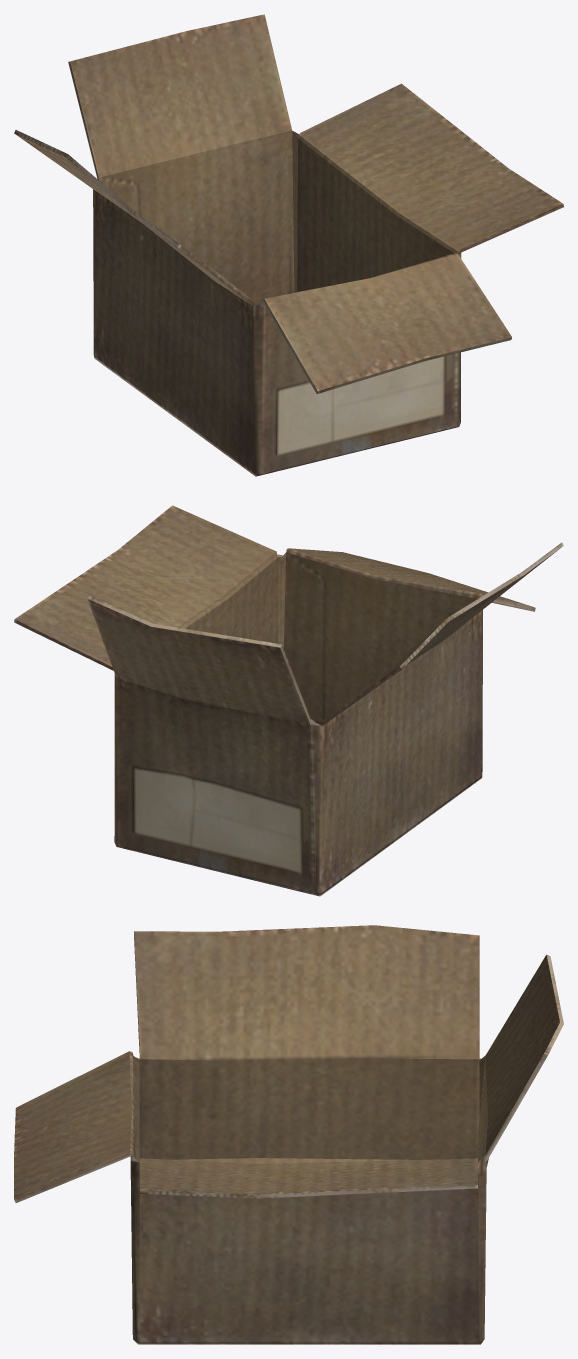
File: sm36_005_cardboard04a.fbx
3 renders of one model, top to bottom at view 1: azimuth 30°, elevation 25°; view 2: azimuth 150°, elevation 25°; view 3: azimuth 270°, elevation 25°, orthographic. The views are drawn at different scales.
Visible parts, largest first — view 1: LOD_1_Group_0_Sub_1__sm36_005_Cardboard04A_A_Mat; view 2: LOD_1_Group_0_Sub_1__sm36_005_Cardboard04A_A_Mat; view 3: LOD_1_Group_0_Sub_1__sm36_005_Cardboard04A_A_Mat.
Part boxes in pixels (x1,y1,x2,y2): LOD_1_Group_0_Sub_1__sm36_005_Cardboard04A_A_Mat: [14, 14, 563, 476]; LOD_1_Group_0_Sub_1__sm36_005_Cardboard04A_A_Mat: [14, 505, 563, 896]; LOD_1_Group_0_Sub_1__sm36_005_Cardboard04A_A_Mat: [14, 925, 563, 1344].
Bounding box in the file's own units: 0.9198 × 0.6168 × 1.06.
